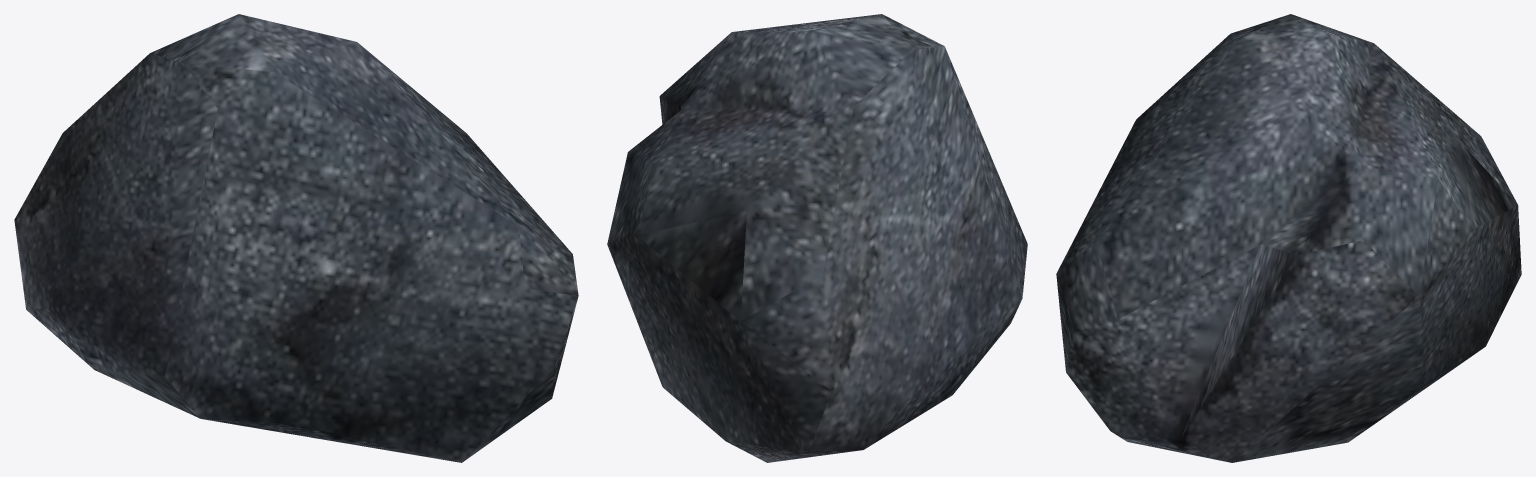
The model's file is dark-stone-medium.glb.
The picture shows the model from 3 angles, left to right: view 1: azimuth 30°, elevation 25°; view 2: azimuth 150°, elevation 25°; view 3: azimuth 270°, elevation 25°; orthographic projection. The views are drawn at different scales.
Visible parts, largest first — view 1: dark-stone; view 2: dark-stone; view 3: dark-stone.
Part boxes in pixels (x1,y1,x2,y2): dark-stone: (14,14,578,462); dark-stone: (607,14,1027,462); dark-stone: (1056,14,1521,462).
Bounding box in the file's own units: 0.8803 × 0.9268 × 1.07.
1 material, 1 textured.
